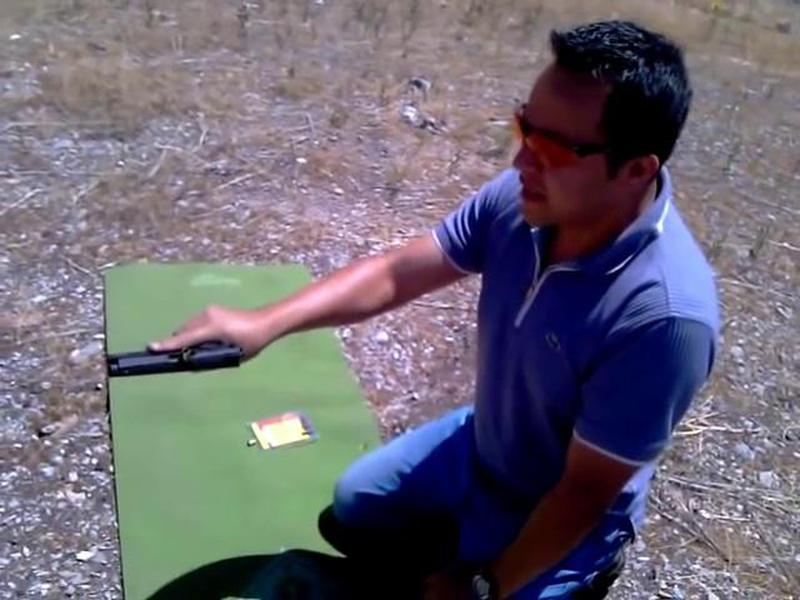Pistola: (98, 333, 263, 395)
